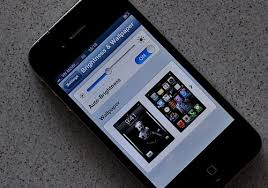iphone: (27, 1, 263, 188)
iphone4: (27, 1, 263, 188)
